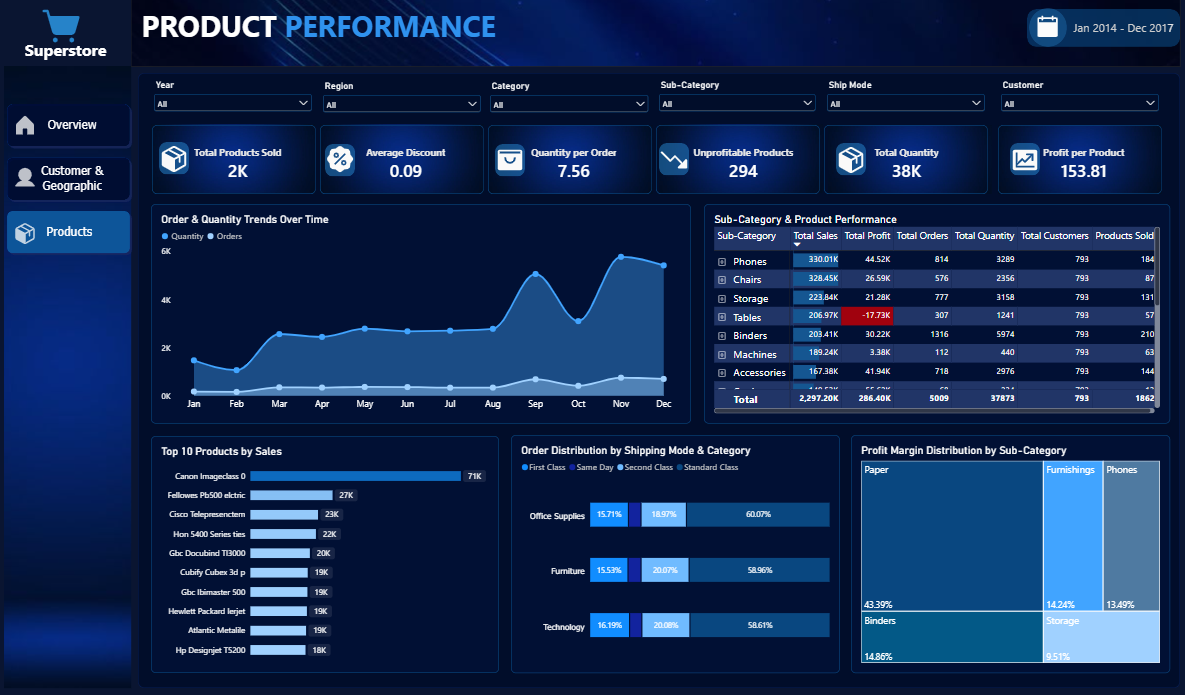

The page's visual inventory and layout, read from the dashboard file:
{"tool":"powerbi","page":{"name":"Products","canvas":[1980,1170],"ordinal":2},"visuals":[{"type":"image","box":[8.3,111.7,211.7,1036.7],"z":0},{"type":"shape","box":[231.7,123.3,1736.7,1025],"z":1000},{"type":"image","box":[534.9,207.9,273,115],"z":2000},{"type":"image","box":[1664.8,209.4,273,115],"z":3000},{"type":"image","box":[1382.3,209.4,273,115],"z":4000},{"type":"image","box":[1099.8,207.9,273,115],"z":5000},{"type":"image","box":[817.3,209.4,273,115],"z":6000},{"type":"image","box":[253.8,207.9,273,115],"z":7000},{"type":"pageNavigator","box":[8.6,170,215.1,261.9],"z":8000},{"type":"image","box":[220.4,0,1748.6,112.6],"z":9000},{"type":"textbox","box":[231.4,11.1,602.4,88.8],"z":10000},{"type":"textbox","box":[36.7,67.2,148.9,44.1],"z":11000},{"type":"image","box":[22.9,12.2,162,67.2],"z":12000},{"type":"shape","box":[1713.7,15.9,255.2,63.4],"z":13000},{"type":"shape","box":[1716.8,14.3,63.4,65],"z":14000},{"type":"image","box":[1710.5,25.4,74.9,44.3],"z":15000},{"type":"slicer","fields":{"Values":["Dim_Products.Category"]},"box":[813.2,134.7,274.3,65],"z":16000},{"type":"slicer","fields":{"Values":["Dim_Customers.Customer Name"]},"box":[1664.5,133.2,272.7,66.6],"z":17000},{"type":"slicer","fields":{"Values":["Dim_Location.Region"]},"box":[534.2,134.7,272.7,65],"z":18000},{"type":"slicer","fields":{"Values":["Dim_ShipMode.Ship Mode"]},"box":[1374.4,133.2,272.7,66.6],"z":19000},{"type":"slicer","fields":{"Values":["Dim_Products.Sub-Category"]},"box":[1095.4,133.2,271.1,66.6],"z":20000},{"type":"cardVisual","fields":{"Data":["Measures_Table.Total Products Sold"]},"box":[255.2,209.3,273,115.7],"z":21000},{"type":"cardVisual","fields":{"Data":["Measures_Table.Quantity per Order"]},"box":[814.5,209.6,273,115],"z":22000},{"type":"cardVisual","fields":{"Data":["Measures_Table.Average Discount %"]},"box":[534.5,209.6,273,115],"z":23000},{"type":"cardVisual","fields":{"Data":["Measures_Table.Unprofitable Products"]},"box":[1094.6,209.6,273,115],"z":24000},{"type":"cardVisual","fields":{"Data":["Measures_Table.Total Quantity"]},"box":[1374.6,209.6,273,115],"z":25000},{"type":"cardVisual","fields":{"Data":["Measures_Table.Avg Profit per Product"]},"box":[1664.5,209.3,273,115.7],"z":26000},{"type":"slicer","fields":{"Values":["Dim_Date.Year"]},"box":[253.6,133.2,272.7,66.6],"z":27000},{"type":"lineChart","title":"Order & Quantity Trends Over Time","fields":{"Category":["Dim_Date.Short Month Name","Dim_Date.Quarter","Dim_Date.Year"],"Y":["Measures_Table.Total Quantity","Measures_Table.Total Orders"]},"box":[252.9,341.4,900,365.7],"z":28000},{"type":"pivotTable","title":"Sub-Category & Product Performance","fields":{"Rows":["Dim_Products.Sub-Category","Dim_Products.Short Product Name"],"Values":["Measures_Table.Total Sales","Measures_Table.Total Profit","Measures_Table.Total Orders","Measures_Table.Total Quantity","Measures_Table.Total Customers","Measures_Table.Total Products Sold"]},"box":[1174.3,341.4,777.1,365.7],"z":29000},{"type":"hundredPercentStackedBarChart","title":"Order Distribution by Shipping Mode & Category","fields":{"Category":["Dim_Products.Category"],"Series":["Dim_ShipMode.Ship Mode"],"Y":["Measures_Table.Total Orders"]},"box":[853.3,726.7,548.3,396.7],"z":30000},{"type":"textbox","box":[1780.3,34.9,188.6,36.5],"z":31000},{"type":"clusteredBarChart","title":"Top 10 Products by Sales","fields":{"Category":["Dim_Products.Short Product Name"],"Y":["Measures_Table.Total Sales"]},"box":[253.3,728.3,580,395],"z":32000},{"type":"treemap","title":"Profit Margin Distribution by Sub-Category","fields":{"Group":["Dim_Products.Sub-Category"],"Values":["Measures_Table.Profit Margin"]},"box":[1420,726.7,531.7,396.7],"z":33000},{"type":"shape","box":[267.1,238.6,50,54.3],"z":34000},{"type":"shape","box":[1684.3,240,50,54.3],"z":35000},{"type":"shape","box":[1394.3,240,50,54.3],"z":36000},{"type":"shape","box":[1100,240,50,54.3],"z":37000},{"type":"shape","box":[827.1,241.4,50,54.3],"z":38000},{"type":"shape","box":[542.9,241.4,50,54.3],"z":39000},{"type":"image","box":[267.1,241.4,50,50],"z":40000},{"type":"image","box":[542.9,241.4,50,50],"z":41000},{"type":"image","box":[1685.7,242.9,50,50],"z":42000},{"type":"image","box":[827.1,242.9,50,50],"z":43000},{"type":"image","box":[1394.3,242.9,50,50],"z":44000},{"type":"image","box":[1100,242.9,50,50],"z":45000},{"type":"image","box":[22.9,271.4,40,52.9],"z":46000},{"type":"image","box":[22.9,365.7,40,52],"z":47000},{"type":"image","box":[22.9,184.3,40,52],"z":48000}]}

Visuals, with their boxes in screenshot pixels (x1, y1, x2, y2), scaled from the page's 1980x1170 canvas onto the 1185x695 screenshot:
image: 5 66 132 682
shape: 139 73 1178 682
image: 320 123 484 192
image: 996 124 1160 193
image: 827 124 991 193
image: 658 123 822 192
image: 489 124 653 193
image: 152 123 315 192
pageNavigator: 5 101 134 257
image: 132 0 1178 67
textbox: 138 7 499 59
textbox: 22 40 111 66
image: 14 7 111 47
shape: 1026 9 1178 47
shape: 1027 8 1065 47
image: 1024 15 1069 41
slicer - Dim_Products.Category: 487 80 651 119
slicer - Dim_Customers.Customer Name: 996 79 1159 119
slicer - Dim_Location.Region: 320 80 483 119
slicer - Dim_ShipMode.Ship Mode: 823 79 986 119
slicer - Dim_Products.Sub-Category: 656 79 818 119
cardVisual - Measures_Table.Total Products Sold: 153 124 316 193
cardVisual - Measures_Table.Quantity per Order: 487 125 651 193
cardVisual - Measures_Table.Average Discount %: 320 125 483 193
cardVisual - Measures_Table.Unprofitable Products: 655 125 818 193
cardVisual - Measures_Table.Total Quantity: 823 125 986 193
cardVisual - Measures_Table.Avg Profit per Product: 996 124 1160 193
slicer - Dim_Date.Year: 152 79 315 119
"Order & Quantity Trends Over Time" lineChart: 151 203 690 420
"Sub-Category & Product Performance" pivotTable: 703 203 1168 420
"Order Distribution by Shipping Mode & Category" hundredPercentStackedBarChart: 511 432 839 667
textbox: 1065 21 1178 42
"Top 10 Products by Sales" clusteredBarChart: 152 433 499 667
"Profit Margin Distribution by Sub-Category" treemap: 850 432 1168 667
shape: 160 142 190 174
shape: 1008 143 1038 175
shape: 834 143 864 175
shape: 658 143 688 175
shape: 495 143 525 176
shape: 325 143 355 176
image: 160 143 190 173
image: 325 143 355 173
image: 1009 144 1039 174
image: 495 144 525 174
image: 834 144 864 174
image: 658 144 688 174
image: 14 161 38 193
image: 14 217 38 248
image: 14 109 38 140
